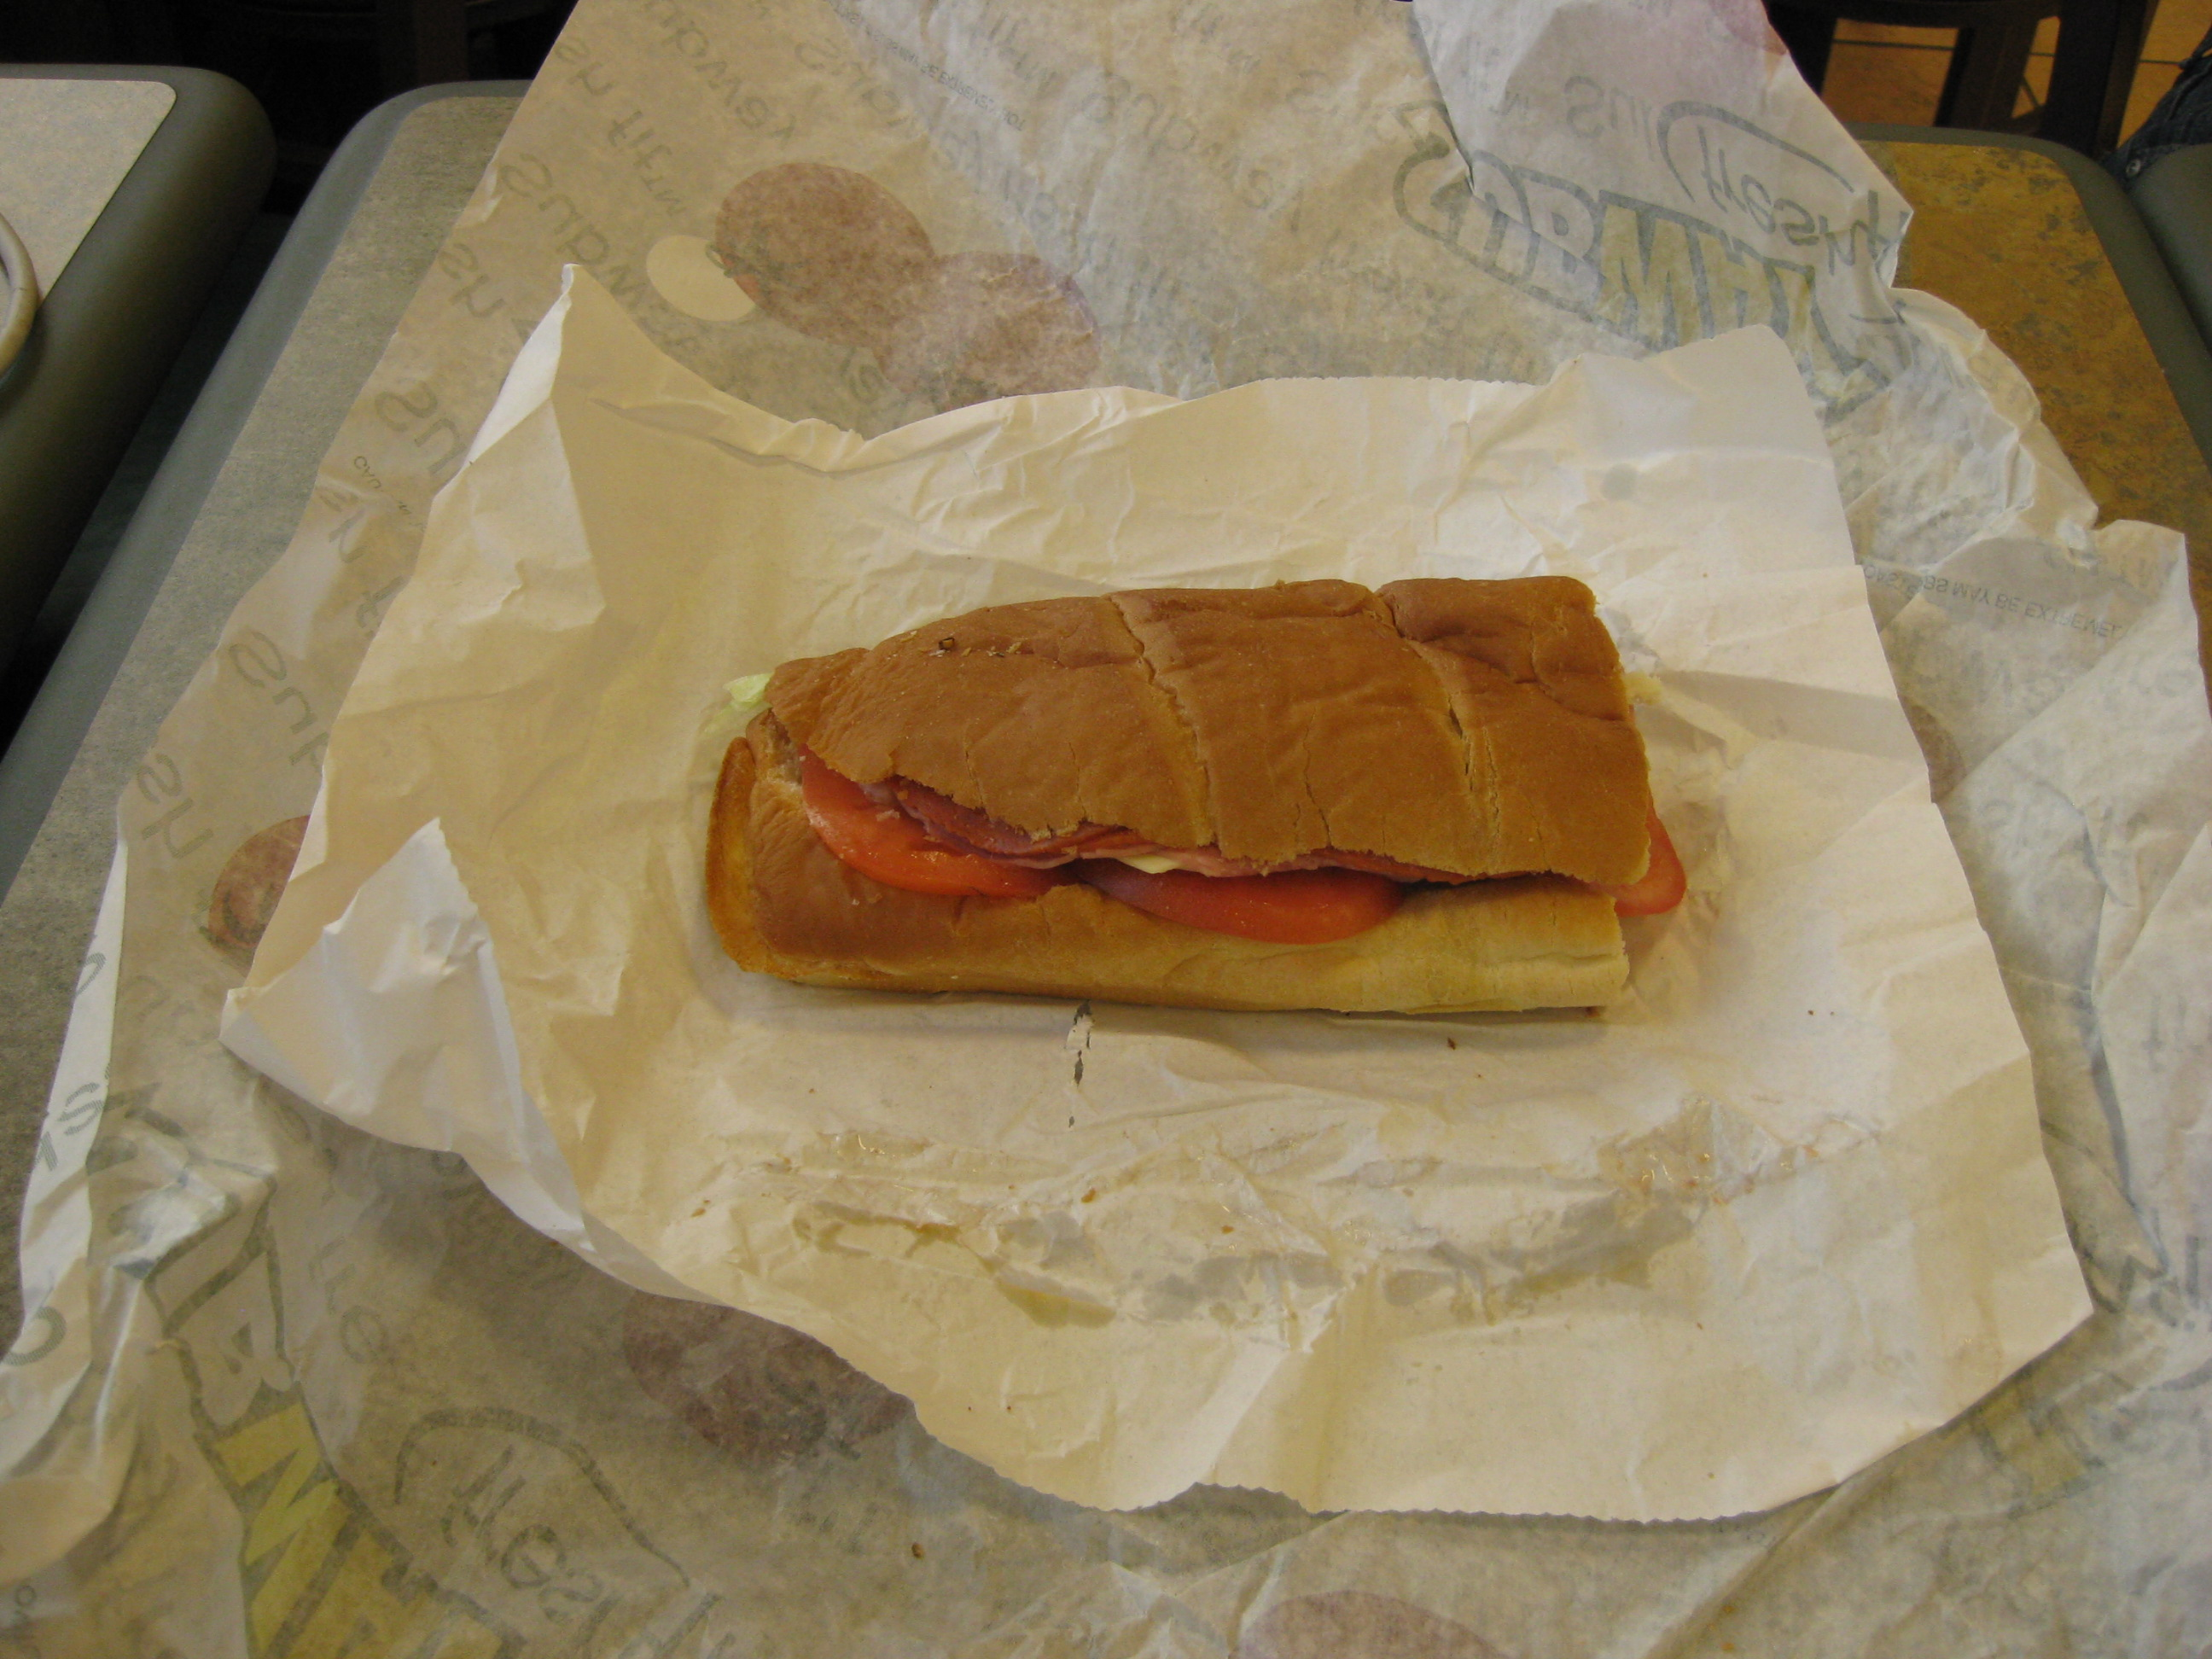sub: (702, 590, 1724, 1033)
